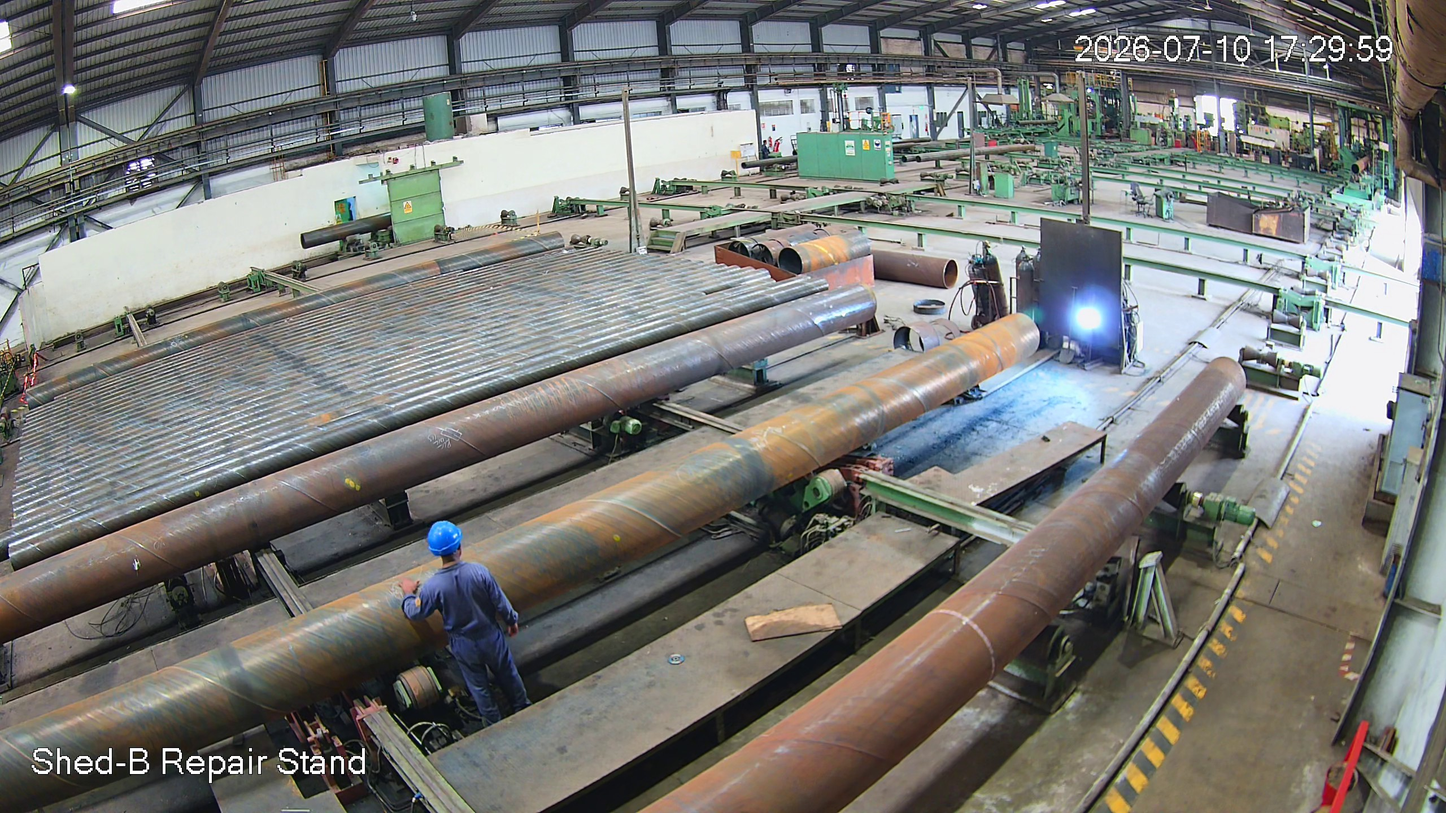Helmet: (418, 511, 470, 574)
Person: (403, 519, 542, 729)
